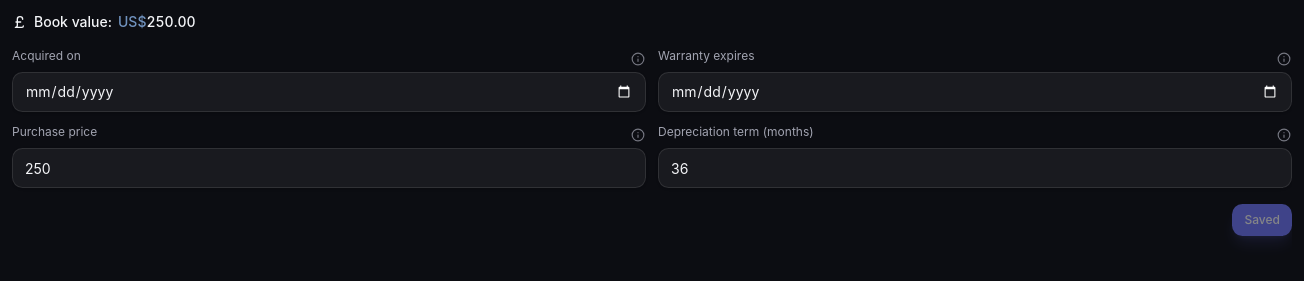
Test case: AssetEditor › refuses to save a comma-grouped price instead of erasing the stored one (issue #675)
This screenshot has width=1304, height=281.
Replace the text in the number field with test id "asset-purchase-price" with "1,250" at (329, 168), box [12,148,646,188]
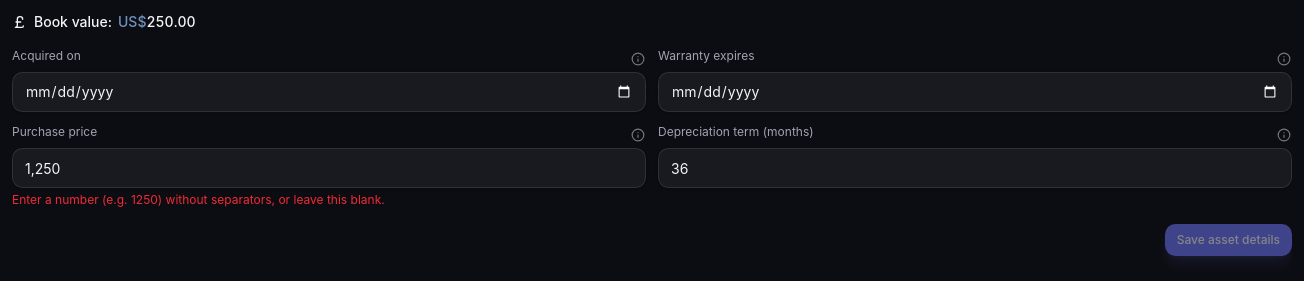
Expected: the button with test id "save-asset" is disabled, [1165,224,1292,256]
Result: the message shows "number" at [12,192,385,207]
